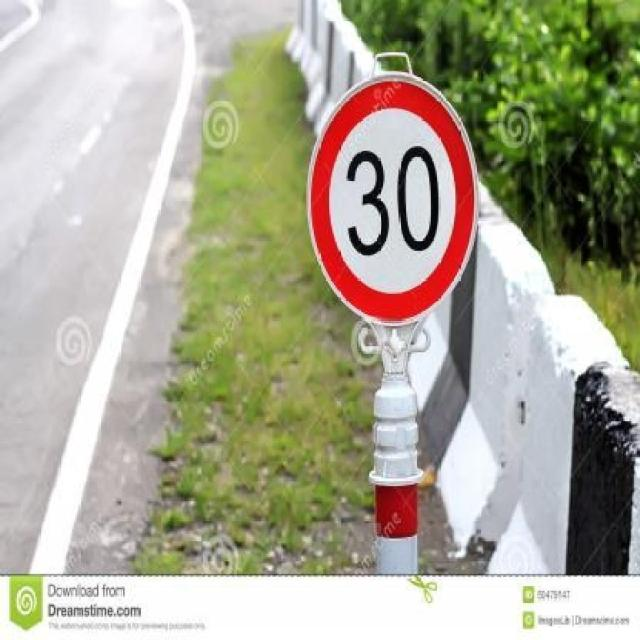forb_speed_over_30: (305, 75, 477, 322)
